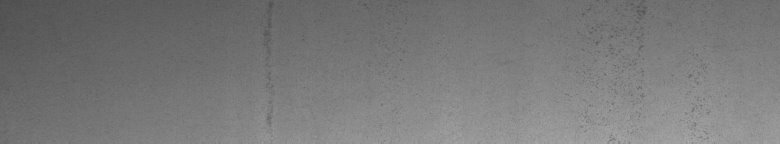ib: (582, 4, 704, 112)
